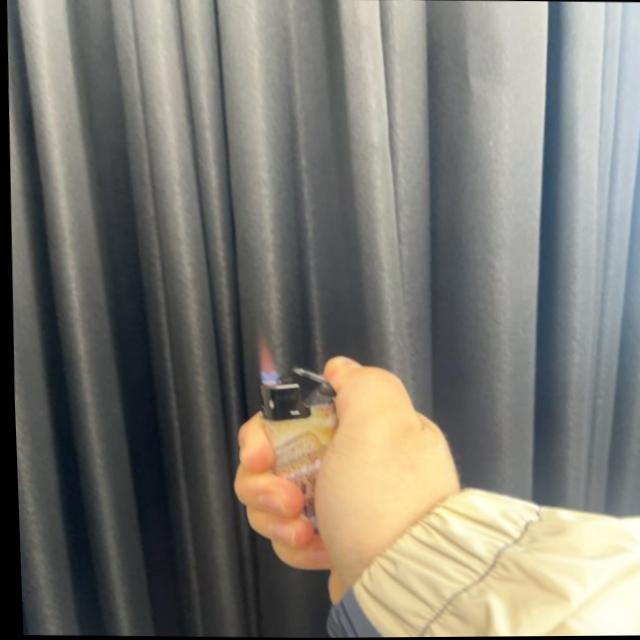Fire: (252, 332, 278, 385)
